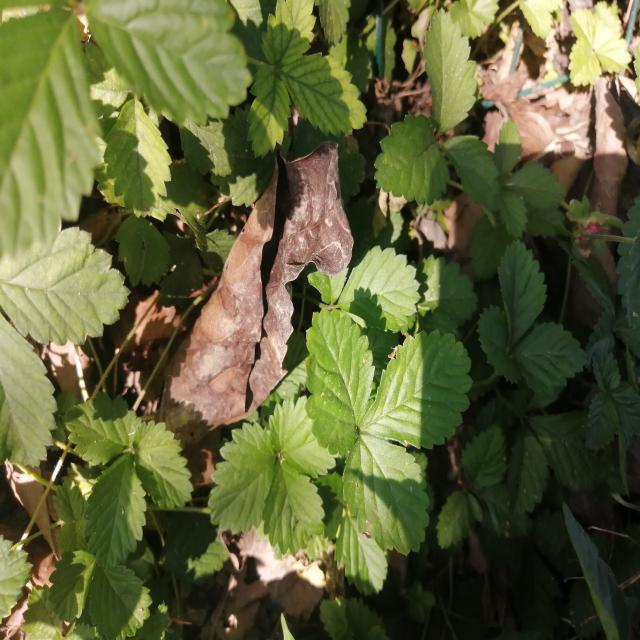Mock_strawberry: (212, 307, 472, 567)
